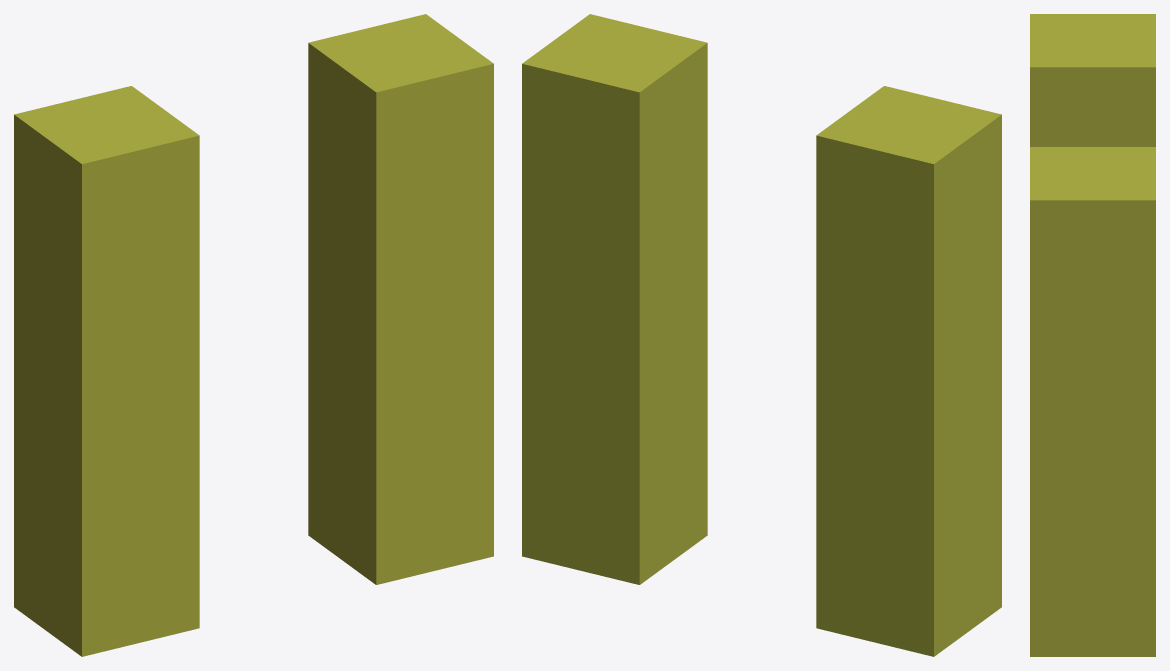
File: legendario_piernas_trasgo_01.glb
The picture shows the model from 3 angles, left to right: view 1: azimuth 30°, elevation 25°; view 2: azimuth 150°, elevation 25°; view 3: azimuth 270°, elevation 25°; orthographic projection. The views are drawn at different scales.
Parts seen in each view (by area): view 1: legendario_piernas_trasgo; view 2: legendario_piernas_trasgo; view 3: legendario_piernas_trasgo.
Part boxes in pixels (x1,y1,x2,y2): legendario_piernas_trasgo: (14,14,493,656); legendario_piernas_trasgo: (522,14,1001,656); legendario_piernas_trasgo: (1030,14,1155,656).
Bounding box in the file's own units: 0.5833 × 0.6667 × 0.1667.
